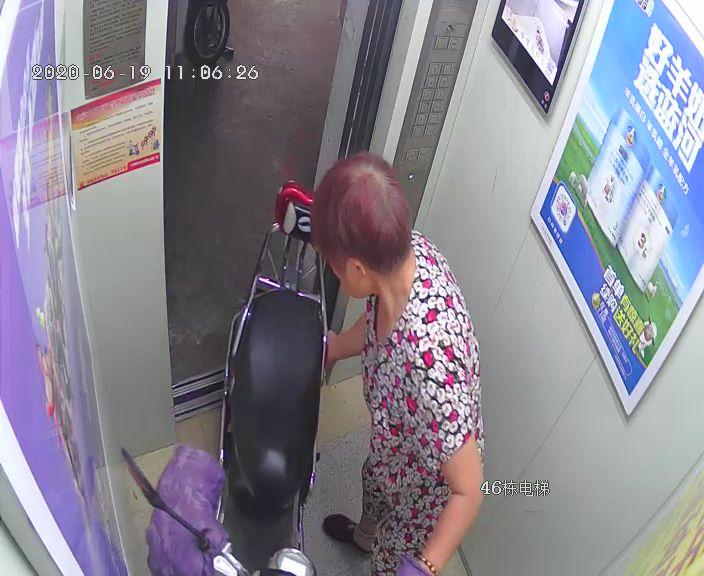Electric-bicycle: (122, 187, 337, 575)
